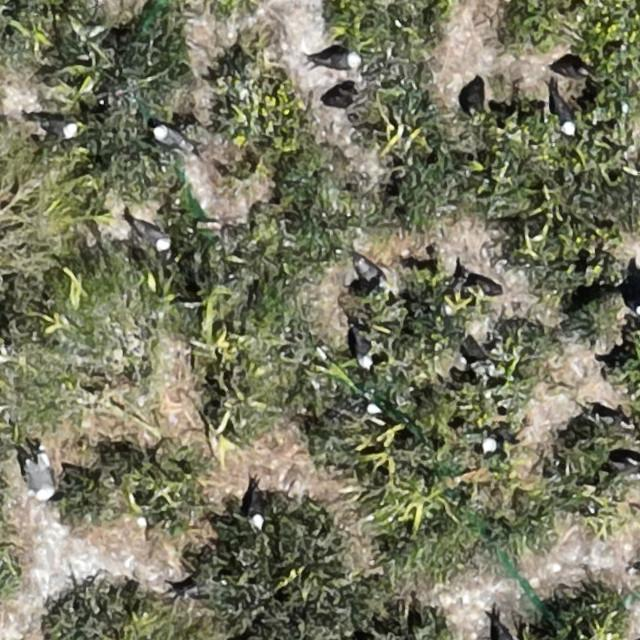umineko: (32, 457, 54, 498), (136, 223, 166, 250), (40, 119, 78, 138), (357, 258, 383, 284), (556, 99, 574, 136), (319, 52, 358, 69), (153, 126, 183, 148), (355, 330, 372, 366), (250, 500, 265, 530), (480, 436, 499, 454), (497, 624, 517, 640)
